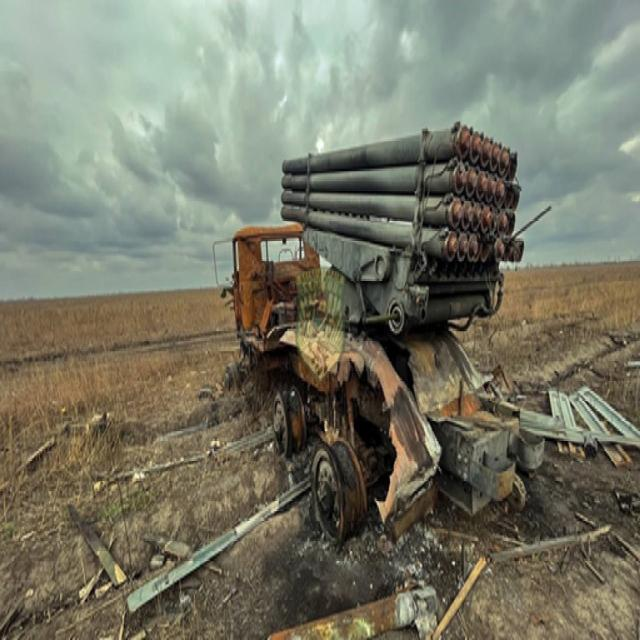MLRS: (224, 118, 526, 551)
